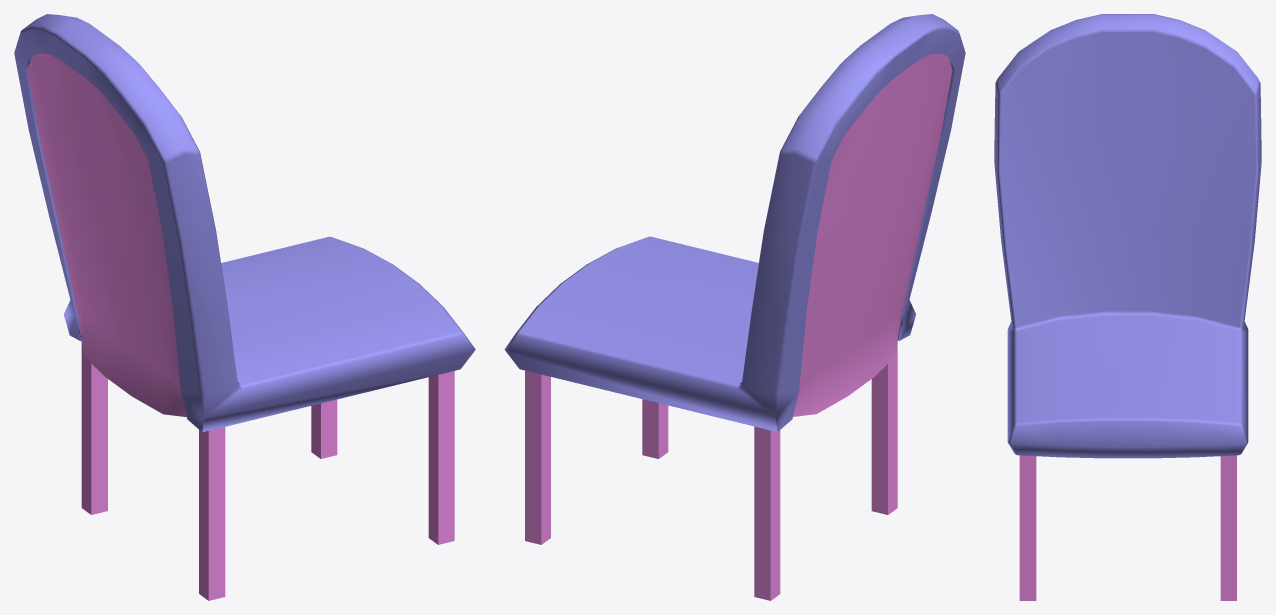
File: DiningChair.fbx
3 views of the same model, side by side, from view 1: azimuth 30°, elevation 25°; view 2: azimuth 150°, elevation 25°; view 3: azimuth 270°, elevation 25° (orthographic). The views are drawn at different scales.
Parts seen in each view (by area): view 1: Chair_Dining; view 2: Chair_Dining; view 3: Chair_Dining.
Part boxes in pixels (x1,y1,x2,y2): Chair_Dining: (14, 14, 475, 600); Chair_Dining: (504, 14, 965, 600); Chair_Dining: (994, 14, 1261, 600).
Size of the model in its own units: 105 by 156 by 82.34.
